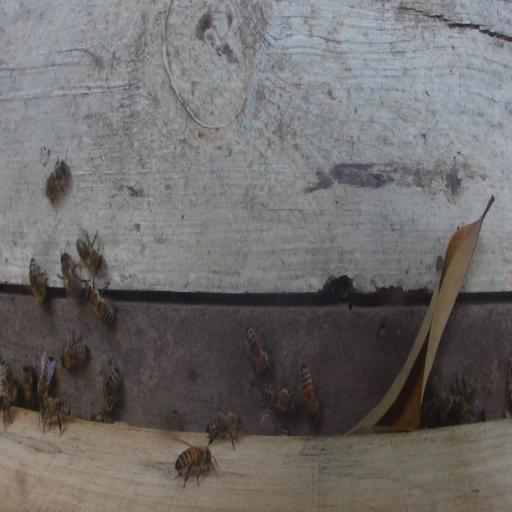bee: (175, 445, 213, 488), (206, 410, 241, 450), (38, 395, 71, 436), (75, 230, 105, 274), (300, 361, 321, 421), (246, 325, 270, 376), (45, 155, 71, 202), (87, 285, 116, 326), (61, 330, 89, 372), (261, 383, 297, 412), (28, 256, 47, 307), (60, 252, 81, 297), (433, 384, 456, 424), (102, 366, 120, 414), (36, 350, 52, 402), (422, 373, 437, 421), (458, 376, 476, 415), (22, 362, 34, 409), (163, 409, 186, 432), (0, 392, 14, 429), (4, 362, 16, 403), (459, 406, 485, 423)
